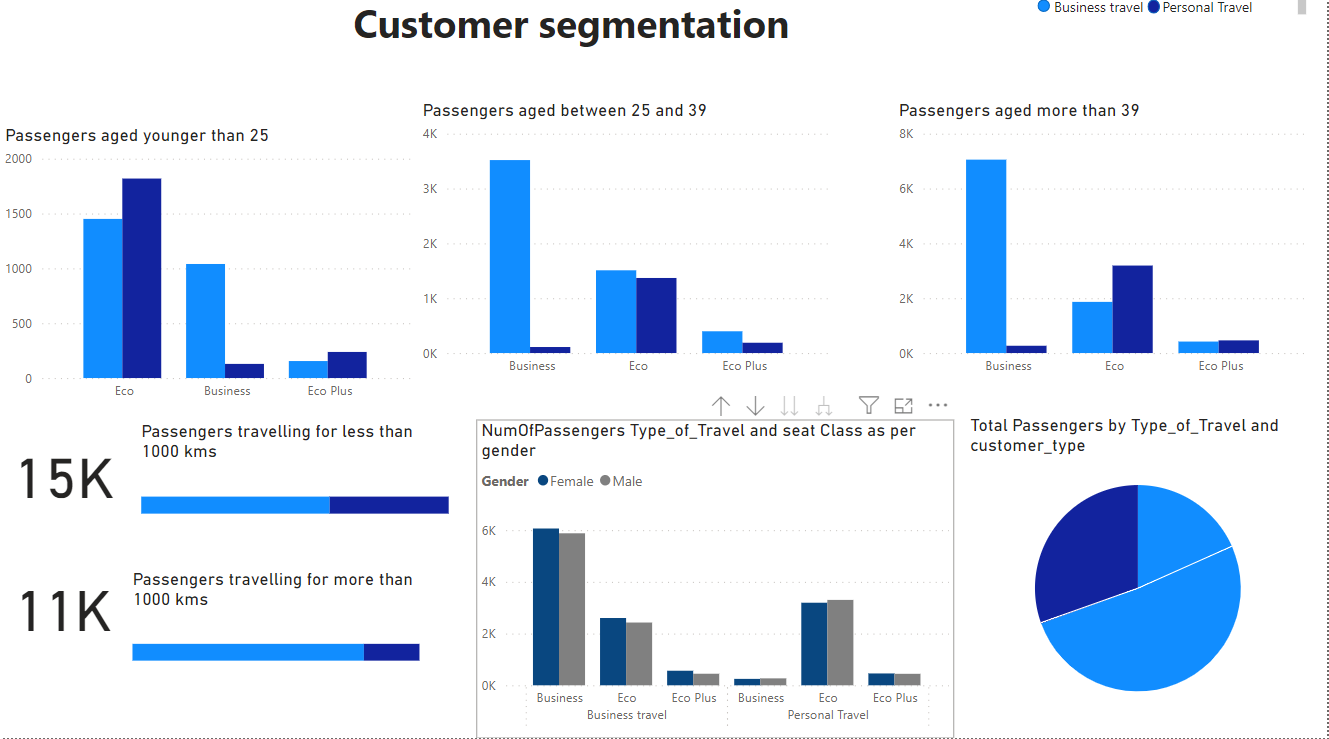

Layout of this report page (visuals, bound fields, positions):
{"tool":"powerbi","page":{"name":"Page 1","canvas":[1280,720],"ordinal":0},"visuals":[{"type":"clusteredColumnChart","title":"Passengers aged between 25 and 39","fields":{"Y":["Sum(between 25 nd 39.NumOfPassengers)"],"Category":["between 25 nd 39.Class"],"Series":["between 25 nd 39.Type_of_Travel"]},"box":[402.8,103.7,402.8,275],"z":0},{"type":"clusteredColumnChart","title":"Passengers aged younger than 25","fields":{"Category":["younger than 25.Class"],"Y":["Sum(younger than 25.NumOfPassengers)"],"Series":["younger than 25.Type_of_Travel"]},"box":[0,127.8,402.8,275],"z":1000},{"type":"clusteredColumnChart","title":"Passengers aged more than 39","fields":{"Category":["more than 39.Class"],"Y":["Sum(more than 39.NumOfPassengers)"],"Series":["more than 39.Type_of_Travel"]},"box":[862.3,103.7,402.8,275],"z":2000},{"type":"barChart","title":"Passengers  travelling for less than 1000 kms","fields":{"Series":["less than1000.Type_of_Travel"],"Y":["Sum(less than1000.NumOfPassengers)"]},"box":[131.5,413.7,306.3,118.2],"z":3000},{"type":"barChart","title":"Passengers  travelling for more than 1000 kms","fields":{"Y":["Sum(more than 1000.NumOfPassengers)"],"Series":["more than 1000.Type_of_Travel"]},"box":[123,556,314.8,117],"z":4000},{"type":"clusteredColumnChart","title":"NumOfPassengers  Type_of_Travel and seat Class as per gender","fields":{"Category":["Gender(1).Type_of_Travel","Gender(1).Class"],"Series":["Gender(1).Gender"],"Y":["Sum(Gender(1).NumOfPassengers)"]},"box":[459.5,412.5,460.7,307.5],"z":5000},{"type":"card","fields":{"Values":["Sum(less than1000.NumOfPassengers)"]},"box":[0,436.6,123,72.4],"z":6000},{"type":"card","fields":{"Values":["Sum(more than 1000.NumOfPassengers)"]},"box":[0,566.8,121.8,68.7],"z":7000},{"type":"textbox","box":[325.6,0,636.8,95.3],"z":8000},{"type":"pieChart","title":"Total Passengers  by Type_of_Travel and customer_type","fields":{"Y":["Sum(ALL.NumOfPassengers)"],"Category":["ALL.Type_of_Travel"],"Series":["ALL.customer_type"]},"box":[931.1,407.6,334.1,296.7],"z":9000},{"type":"textbox","box":[1001,0,264.1,26.5],"z":9001},{"type":"shape","box":[1001,7.2,12.1,12.1],"z":9002},{"type":"shape","box":[1107.1,7.2,12.1,13.3],"z":9003}]}

Visuals, with their boxes in screenshot pixels (x1, y1, x2, y2), scaled from the page's 1280x720 canvas onto the 1329x739 screenshot:
"Passengers aged between 25 and 39" clusteredColumnChart: <region>418, 106, 836, 389</region>
"Passengers aged younger than 25" clusteredColumnChart: <region>0, 131, 418, 413</region>
"Passengers aged more than 39" clusteredColumnChart: <region>895, 106, 1314, 389</region>
"Passengers  travelling for less than 1000 kms" barChart: <region>137, 425, 455, 546</region>
"Passengers  travelling for more than 1000 kms" barChart: <region>128, 571, 455, 691</region>
"NumOfPassengers  Type_of_Travel and seat Class as per gender" clusteredColumnChart: <region>477, 423, 955, 738</region>
card - Sum(less than1000.NumOfPassengers): <region>0, 448, 128, 522</region>
card - Sum(more than 1000.NumOfPassengers): <region>0, 582, 126, 652</region>
textbox: <region>338, 0, 999, 98</region>
"Total Passengers  by Type_of_Travel and customer_type" pieChart: <region>967, 418, 1314, 723</region>
textbox: <region>1039, 0, 1314, 27</region>
shape: <region>1039, 7, 1052, 20</region>
shape: <region>1149, 7, 1162, 21</region>
